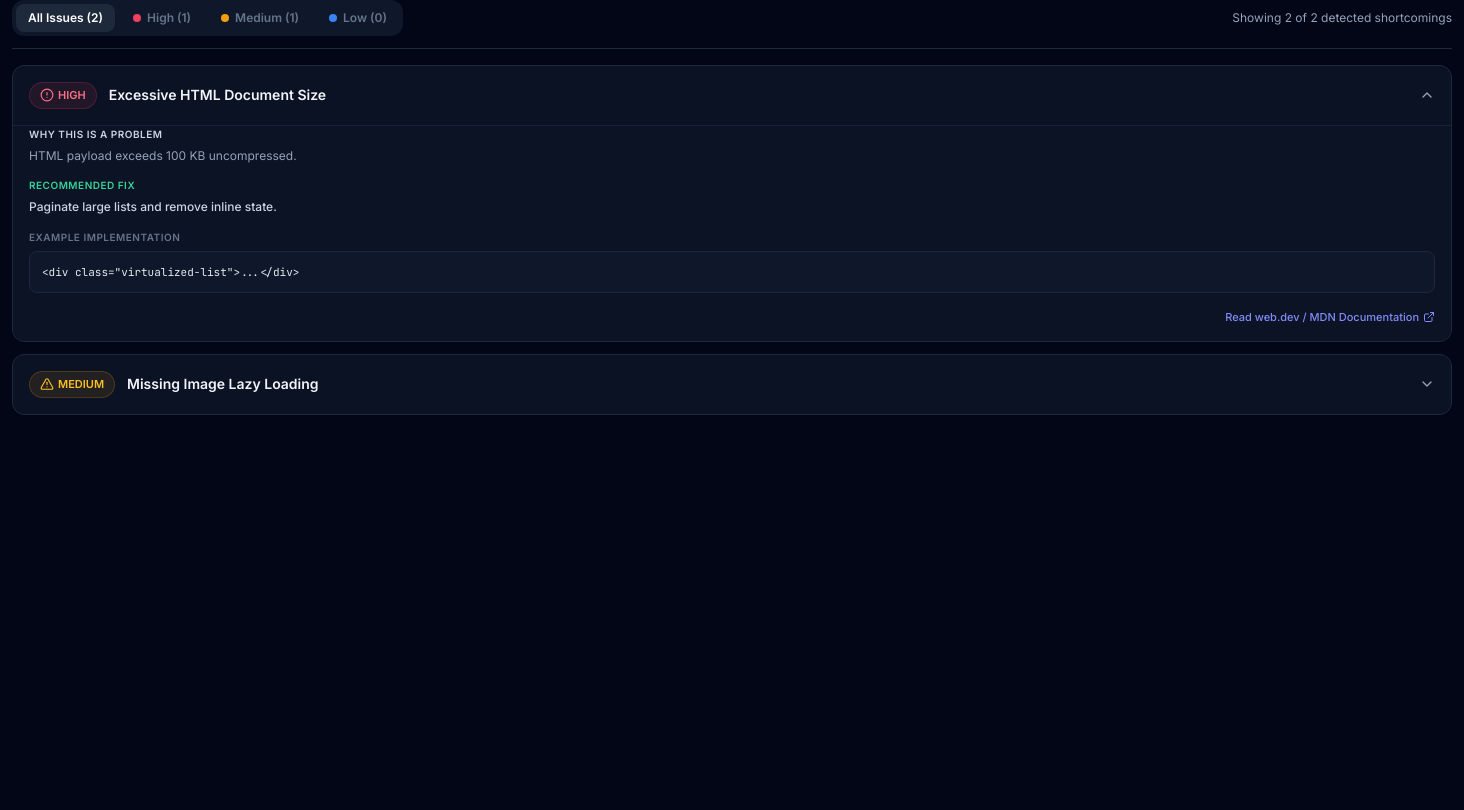
Scenario: ShortcomingList Component › renders all shortcomings and allows expanding details
Expected: the heading "Excessive HTML Document Size" is shown, [109,85,326,105]
// Click to expand second item
What coordinates should you click on to do the following:
click the heading "Missing Image Lazy Loading"
I would click on:
 (223, 384)
Its box is [127,374,318,394].
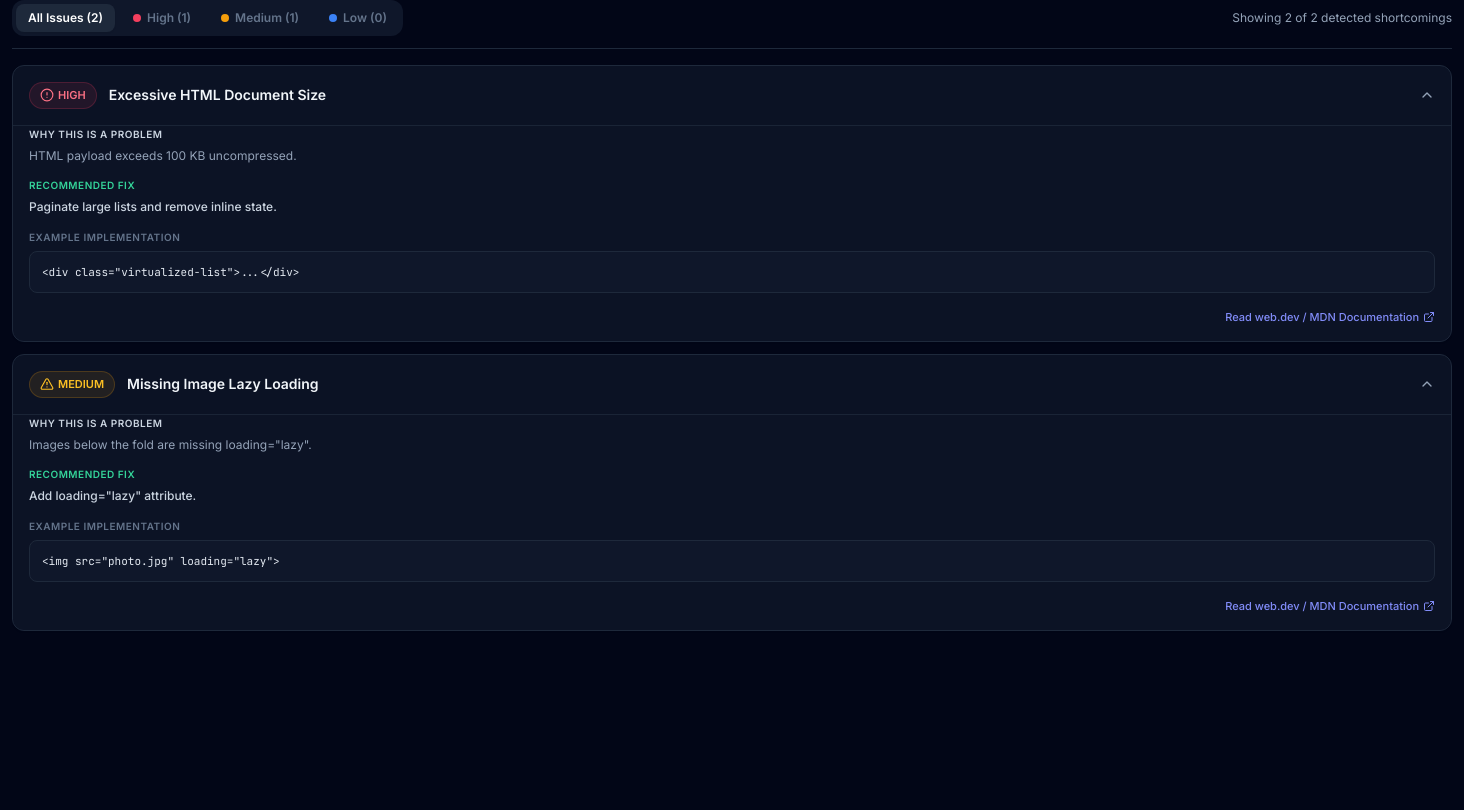
Expected: the text "Images below the fold are missing loading=\"lazy\"." is shown, [29,436,312,452]
Expected: the text "Add loading=\"lazy\" attribute." is shown, [29,488,196,503]
